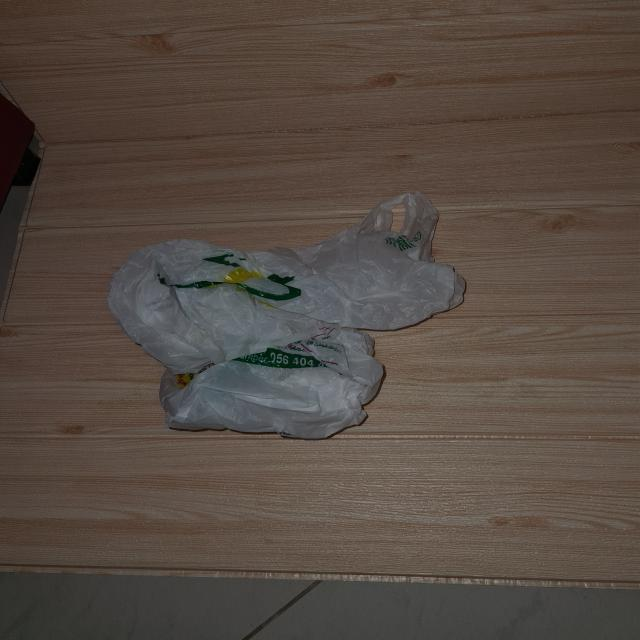Plastic_Bag: (114, 186, 464, 437)
